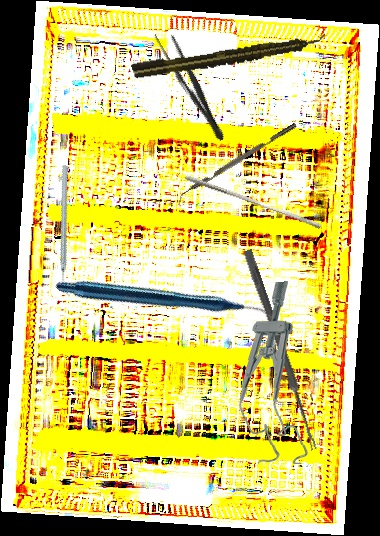Chopper: (14, 164, 119, 298), (172, 122, 301, 206)
Dressing Forceps: (151, 26, 232, 145)
Handpiece: (54, 194, 275, 412), (130, 31, 328, 81)
Pusher: (182, 174, 324, 230)
Speculum: (234, 280, 309, 467)
Surgical Spoon: (242, 249, 320, 451)
